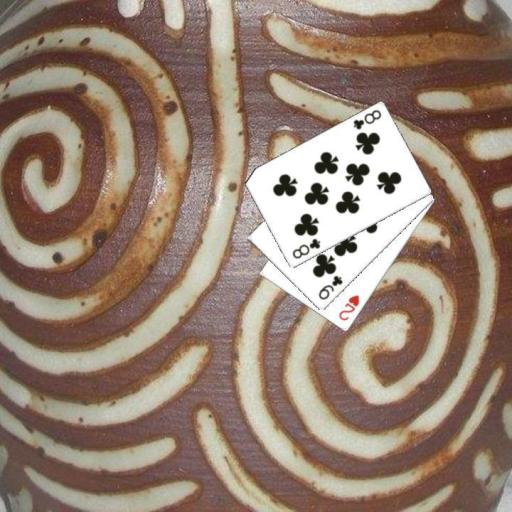2H: (336, 292, 361, 322)
8C: (289, 236, 322, 261), (350, 107, 382, 132)
9C: (315, 273, 344, 302)
